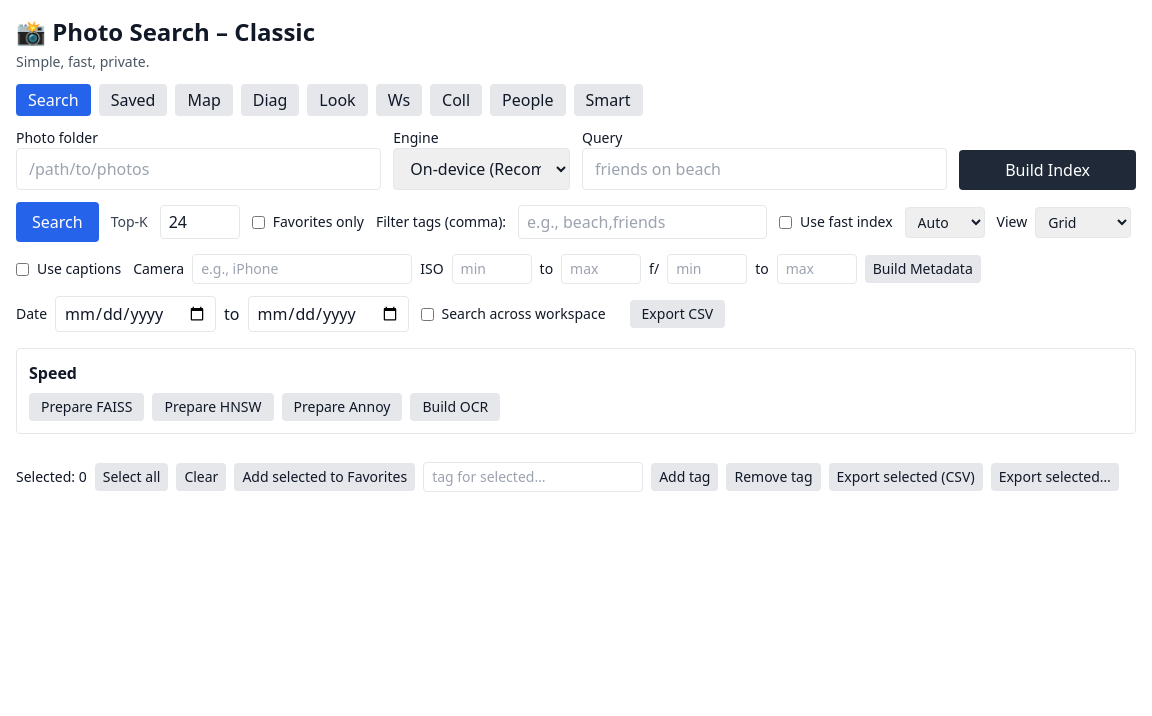
Scenario: Classic App › runs a search and shows results
// Set folder and query
Type "/d" into the field with placeholder "/path/to/photos". click: (199, 169)
box: [16,148,381,190]
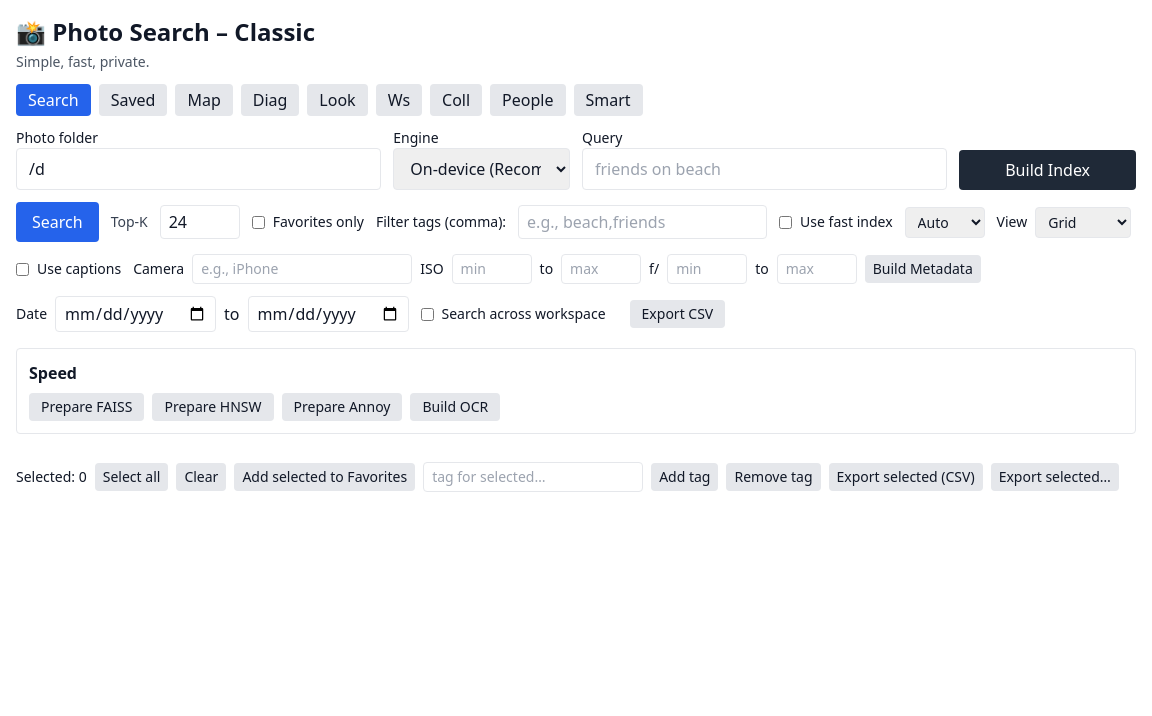
Type "beach" into the field with placeholder "friends on beach". click: (765, 169)
box: [582,148,947,190]
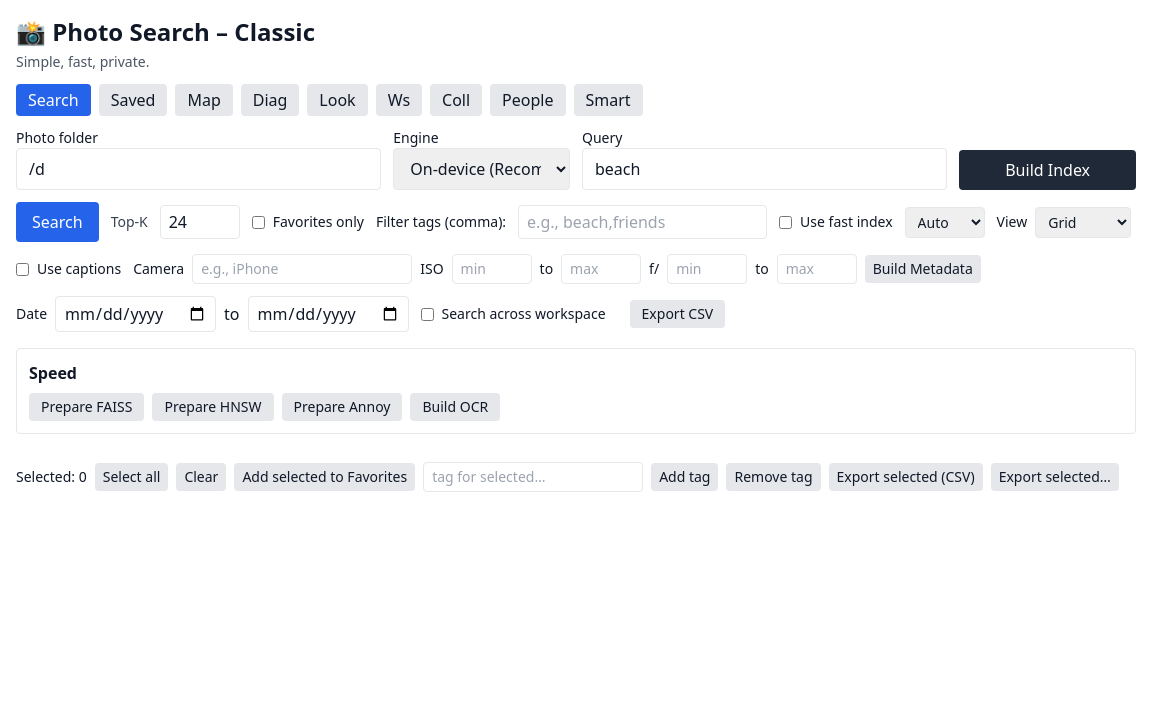
// Click the main Search button below filters (second occurrence)
Click the button "Search" next to "Top‑K". click: click(57, 222)
box: [16,202,99,242]
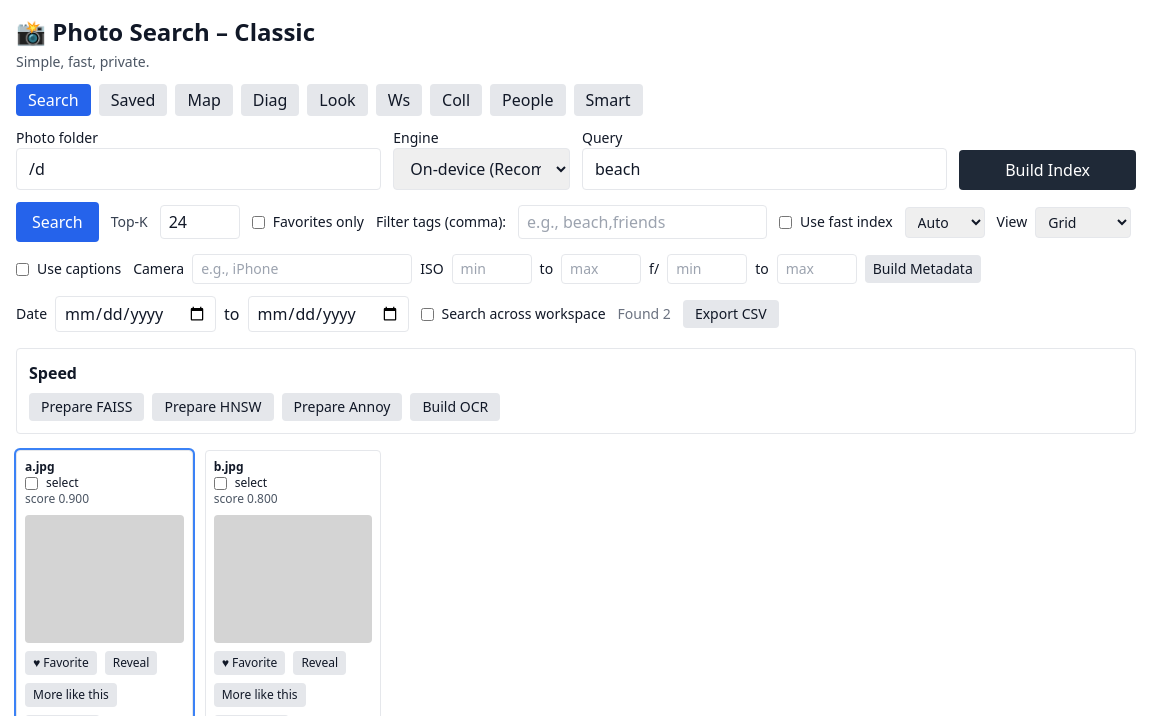
Check: the button "♥ Favorite" below "0.900" is shown, box [25,651,97,675]
